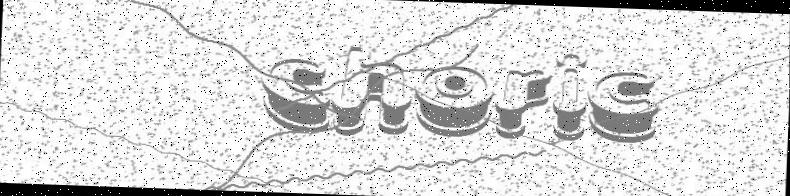c: (262, 58, 333, 134), (588, 71, 661, 142)
h: (332, 46, 415, 136)
i: (551, 54, 588, 141)
o: (414, 65, 495, 138)
r: (494, 68, 554, 140)
